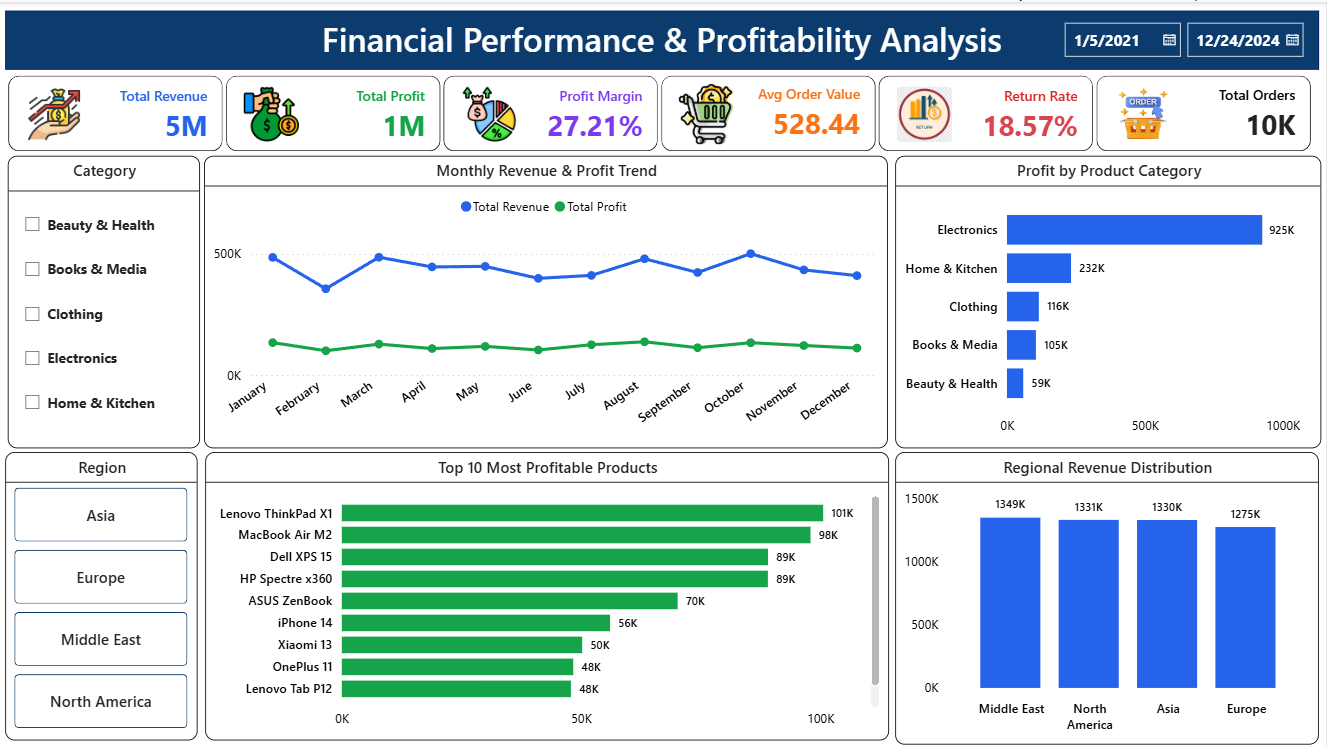

What the dashboard file says about the page in this screenshot:
{"tool":"powerbi","page":{"name":"Financial Overview Dashboard","canvas":[1280,720],"ordinal":0},"visuals":[{"type":"lineChart","title":"Monthly Revenue & Profit Trend","fields":{"Category":["finance orders.Month Name"],"Y":["finance orders.Total Revenue","finance orders.Total Profit"]},"box":[197.9,148.4,659.9,282.3],"z":0},{"type":"barChart","title":"Profit by Product Category","fields":{"Category":["finance orders.Category"],"Y":["finance orders.Total Profit"]},"box":[865,148.4,411.4,282.3],"z":1000},{"type":"columnChart","title":"Regional Revenue Distribution","fields":{"Category":["finance orders.Region"],"Y":["finance orders.Total Revenue"]},"box":[865,434.3,409,282.3],"z":2000},{"type":"barChart","title":"Top 10 Most Profitable Products","fields":{"Category":["finance orders.ProductName"],"Y":["finance orders.Total Profit"]},"box":[199.1,434.3,659.9,278.7],"z":3000},{"type":"advancedSlicerVisual","fields":{"Values":["finance orders.Region"]},"box":[6,434.3,185.8,278.7],"z":4000},{"type":"slicer","title":"Category","fields":{"Values":["finance orders.Category"]},"box":[8.4,148.4,185.8,282.3],"z":5000},{"type":"cardVisual","fields":{"Data":["finance orders.Total Revenue","finance orders.Total Profit","finance orders.Profit Margin","finance orders.Avg Order Value","finance orders.Return Rate","finance orders.Total Orders"]},"box":[0,56.7,1280,101.3],"z":6000},{"type":"textbox","box":[6,8.4,1268,56.7],"z":7000},{"type":"slicer","title":"Years","fields":{"Values":["finance orders.OrderDate"]},"box":[1015.8,9.7,264.2,54.3],"z":8000}]}

Visuals, with their boxes in screenshot pixels (x1, y1, x2, y2), scaled from the page's 1280x720 canvas onto the 1327x748 screenshot:
"Monthly Revenue & Profit Trend" lineChart: [205, 154, 889, 447]
"Profit by Product Category" barChart: [897, 154, 1323, 447]
"Regional Revenue Distribution" columnChart: [897, 451, 1321, 744]
"Top 10 Most Profitable Products" barChart: [206, 451, 891, 741]
advancedSlicerVisual - finance orders.Region: [6, 451, 199, 741]
"Category" slicer: [9, 154, 201, 447]
cardVisual - finance orders.Total Revenue x finance orders.Total Profit: [0, 59, 1326, 164]
textbox: [6, 9, 1321, 68]
"Years" slicer: [1053, 10, 1326, 66]
